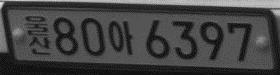0: (80, 17, 106, 56)
3: (171, 19, 197, 60)
6: (145, 18, 171, 60)
7: (225, 21, 253, 63)
8: (52, 16, 78, 55)
9: (198, 20, 225, 61)
아: (108, 19, 135, 56)
울산_V: (23, 13, 52, 57)
